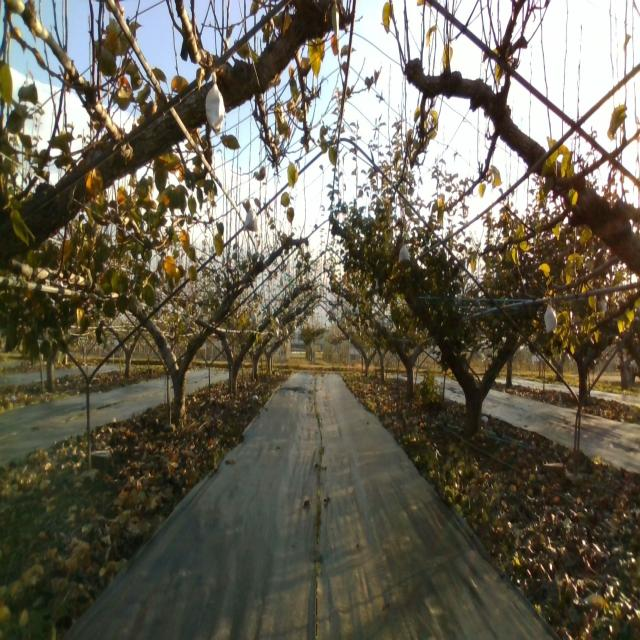pearbags: (204, 70, 226, 139), (242, 207, 259, 234), (544, 303, 558, 332), (397, 244, 411, 262)
